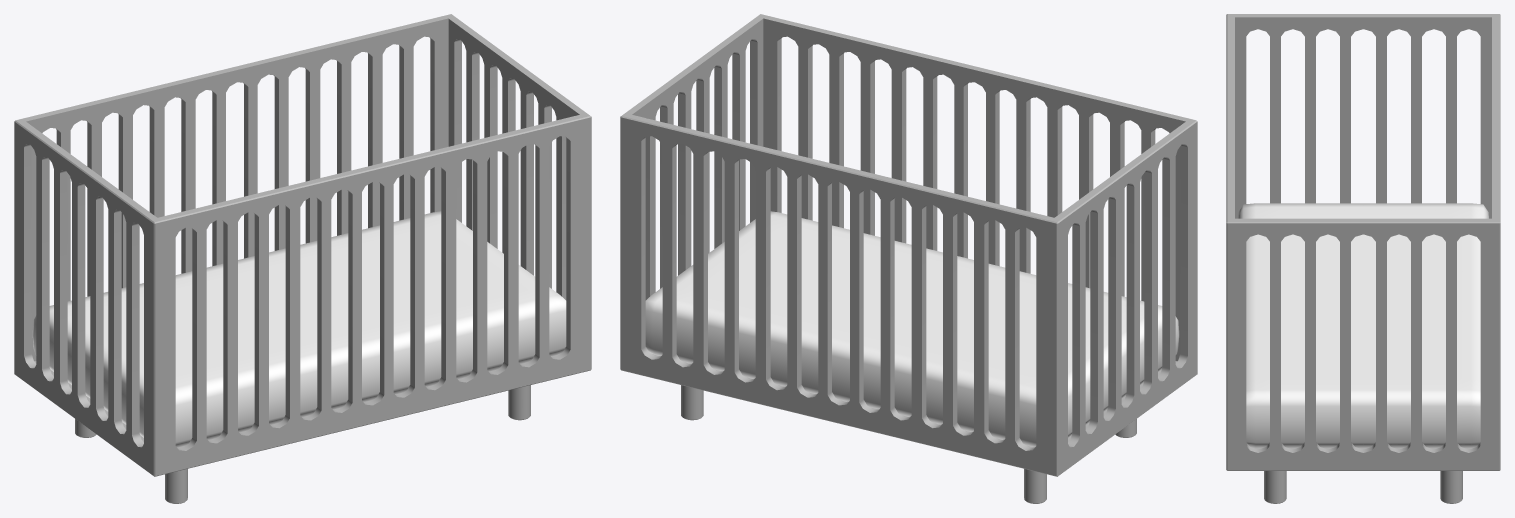
The model's file is Crib_V3.fbx.
The picture shows the model from 3 angles, left to right: view 1: azimuth 30°, elevation 25°; view 2: azimuth 150°, elevation 25°; view 3: azimuth 270°, elevation 25°; orthographic projection. The views are drawn at different scales.
Parts seen in each view (by area): view 1: Crib_V3; view 2: Crib_V3; view 3: Crib_V3.
Part boxes in pixels (<box>): Crib_V3: <box>14,14,591,503</box>; Crib_V3: <box>620,14,1197,503</box>; Crib_V3: <box>1226,14,1500,503</box>.
Size of the model in its own units: 136 by 91 by 75.5.
